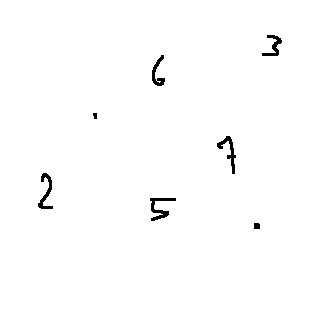.: (250, 212, 269, 245), (86, 108, 108, 123)
2: (27, 168, 59, 219)
3: (253, 31, 287, 67)
5: (145, 190, 184, 227)
6: (140, 50, 176, 96)
7: (208, 124, 249, 181)
